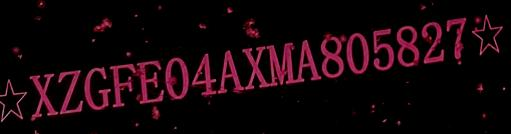letter: (107, 60, 138, 111), (26, 71, 59, 118), (135, 58, 166, 108), (55, 67, 85, 118), (293, 36, 323, 86), (189, 50, 219, 100), (162, 54, 191, 105), (240, 42, 269, 92), (216, 46, 245, 96), (264, 39, 294, 87), (82, 64, 112, 112), (318, 32, 347, 78), (419, 18, 447, 65), (343, 29, 371, 76), (444, 13, 469, 62), (394, 23, 421, 67), (370, 25, 395, 72)
